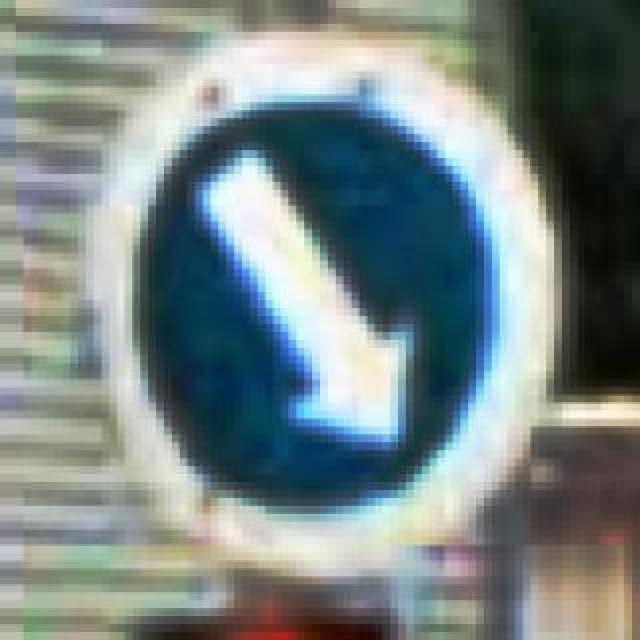keep right: (86, 24, 562, 568)
